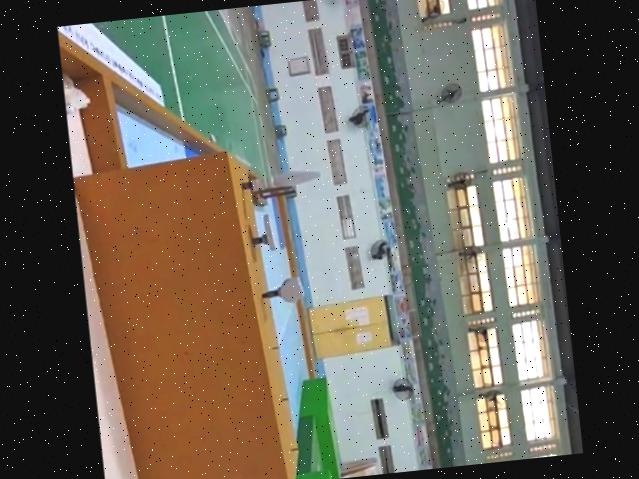Fist: (261, 277, 307, 306)
Hand: (247, 208, 284, 253)
Sph: (239, 164, 323, 190)
